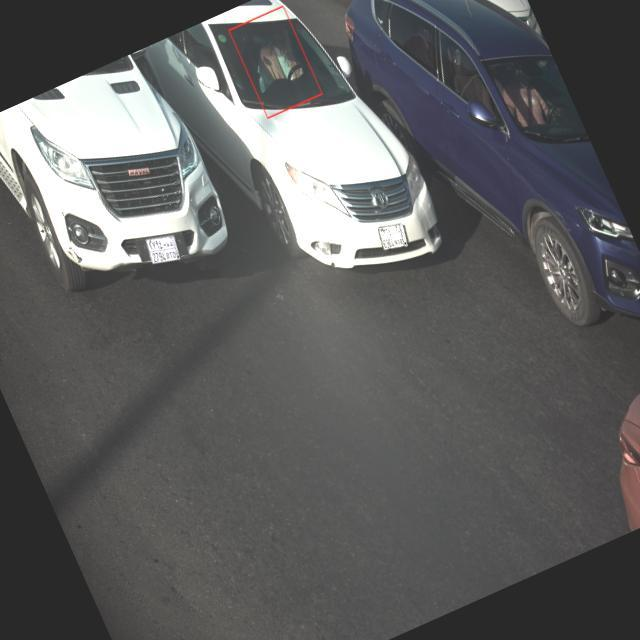windshield: (207, 17, 361, 113), (478, 52, 592, 149)
